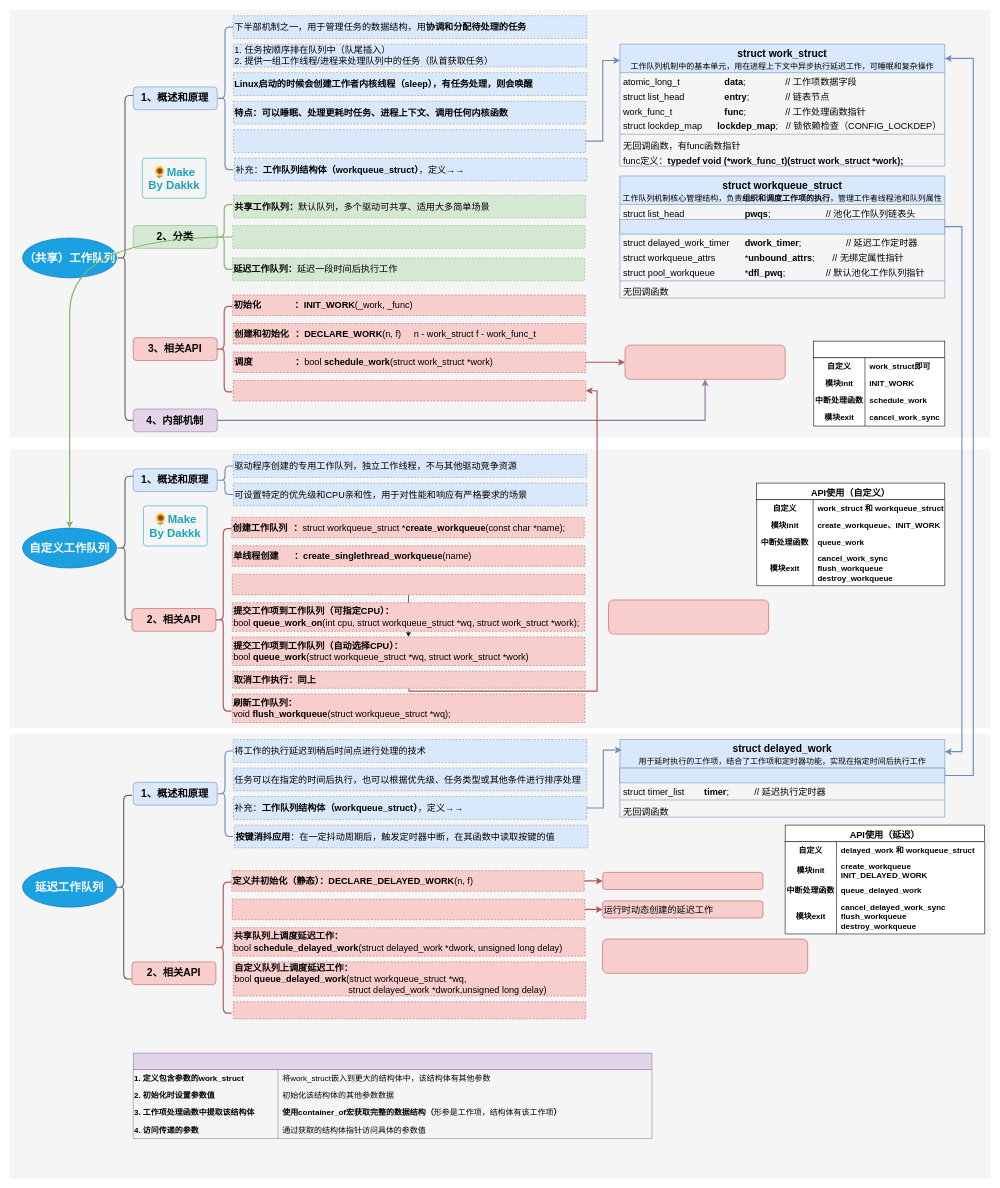
The diagram is 1000 pixels wide and 1188 high, and some of its shapes have lost their labels. The shapes that lost their labels are listed below. From the top down, each one's centre as x and y in pixels, then its label:
At [409,140]: "驱动开发， 只需要定义工作项（work_struct） 即可，定义→ →".
At [408,236]: "自定义工作队列： 驱动自己创建的专用队列，可设置特定优先级和属性，负责场景".
At [782,226]: "struct list_head delayed_works ; // 延迟工作项链表头".
At [704,362]: "1. 将工作项插入工作队列 2. 请求调度器在合适的时间执行工作项 3. 返回值表示工作项是否提交成功".
At [879,349]: "API使用（共享）".
At [409,390]: "取消 ： bool cancel_work_sync (struct work_struct *work)".
At [408,584]: "销毁 ： void destroy_workqueue (struct workqueue_struct *wq);".
At [688,616]: "提交工作队列时，会关闭硬中断，检查工作项是否在队列中，原子的".
At [782,775]: "struct work_struct work ; // 基础工作项结构".
At [682,880]: "编译时就确定的静态延迟工作".
At [408,909]: "定义并初始化（动态） ： INIT_DELAYED_WORK (_work, _func)".
At [705,956]: "delay参数使用jiffies作为单位： HZ：1s msecs_to_jiffies(ms)：毫秒转换为jiffies".
At [409,1010]: "取消延迟工作 ： bool cancel_delayed_work_sync (struct delayed_work *dwork);".
At [392,1061]: "工作队列传参机制".
